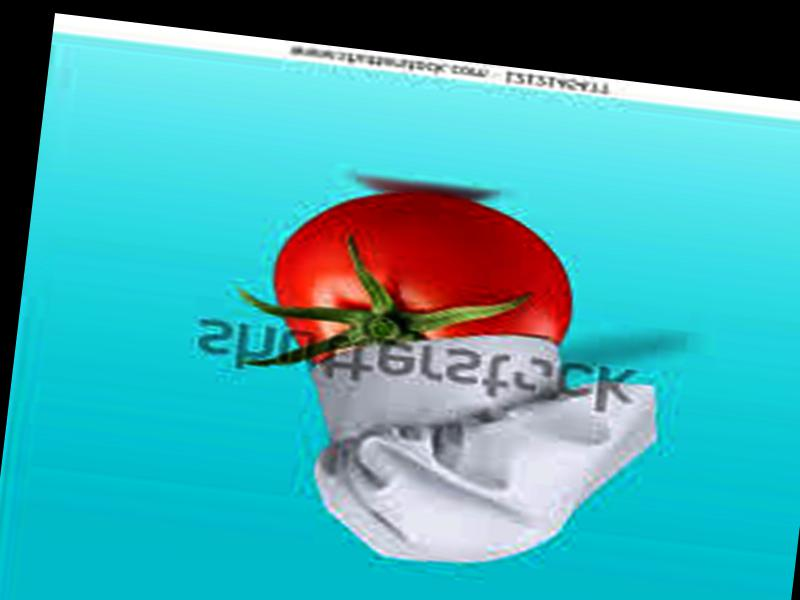Tomato: (269, 180, 582, 393)
